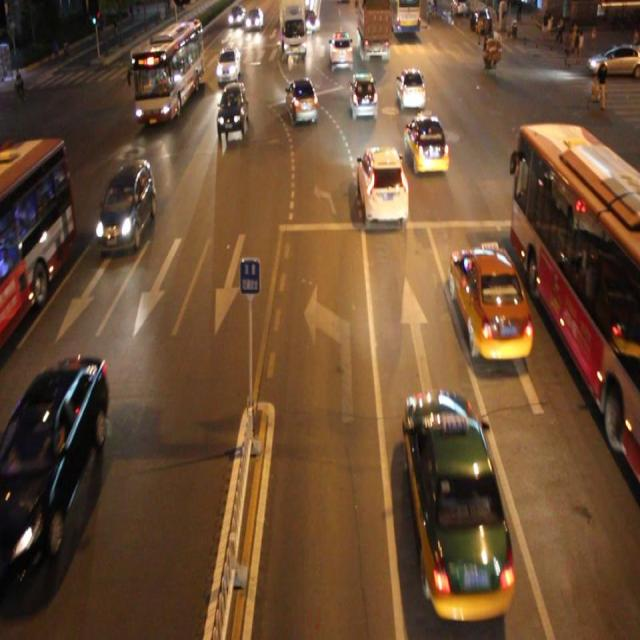car: (0, 352, 109, 588), (404, 388, 513, 610), (449, 243, 530, 357), (97, 158, 156, 255), (356, 144, 409, 228), (402, 111, 448, 176), (215, 82, 248, 134), (285, 78, 318, 125), (350, 72, 377, 120), (396, 67, 425, 111)
van: (509, 124, 640, 477), (1, 138, 76, 348), (132, 19, 204, 122)
